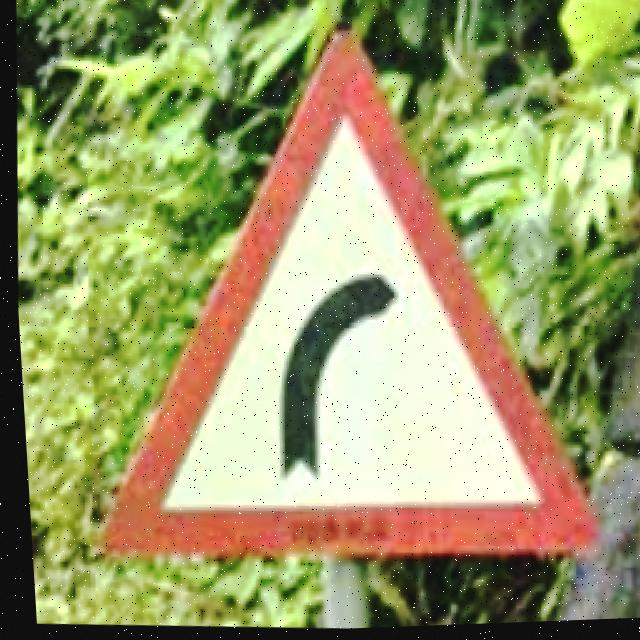rightbend: (96, 36, 591, 566)
